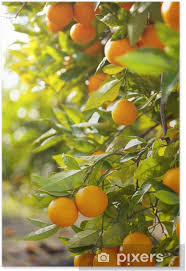orange: (134, 20, 169, 55), (77, 184, 109, 217), (104, 37, 139, 67), (46, 195, 78, 225), (121, 230, 154, 259), (87, 68, 116, 99), (110, 98, 138, 128), (45, 1, 74, 27), (70, 23, 95, 46)
